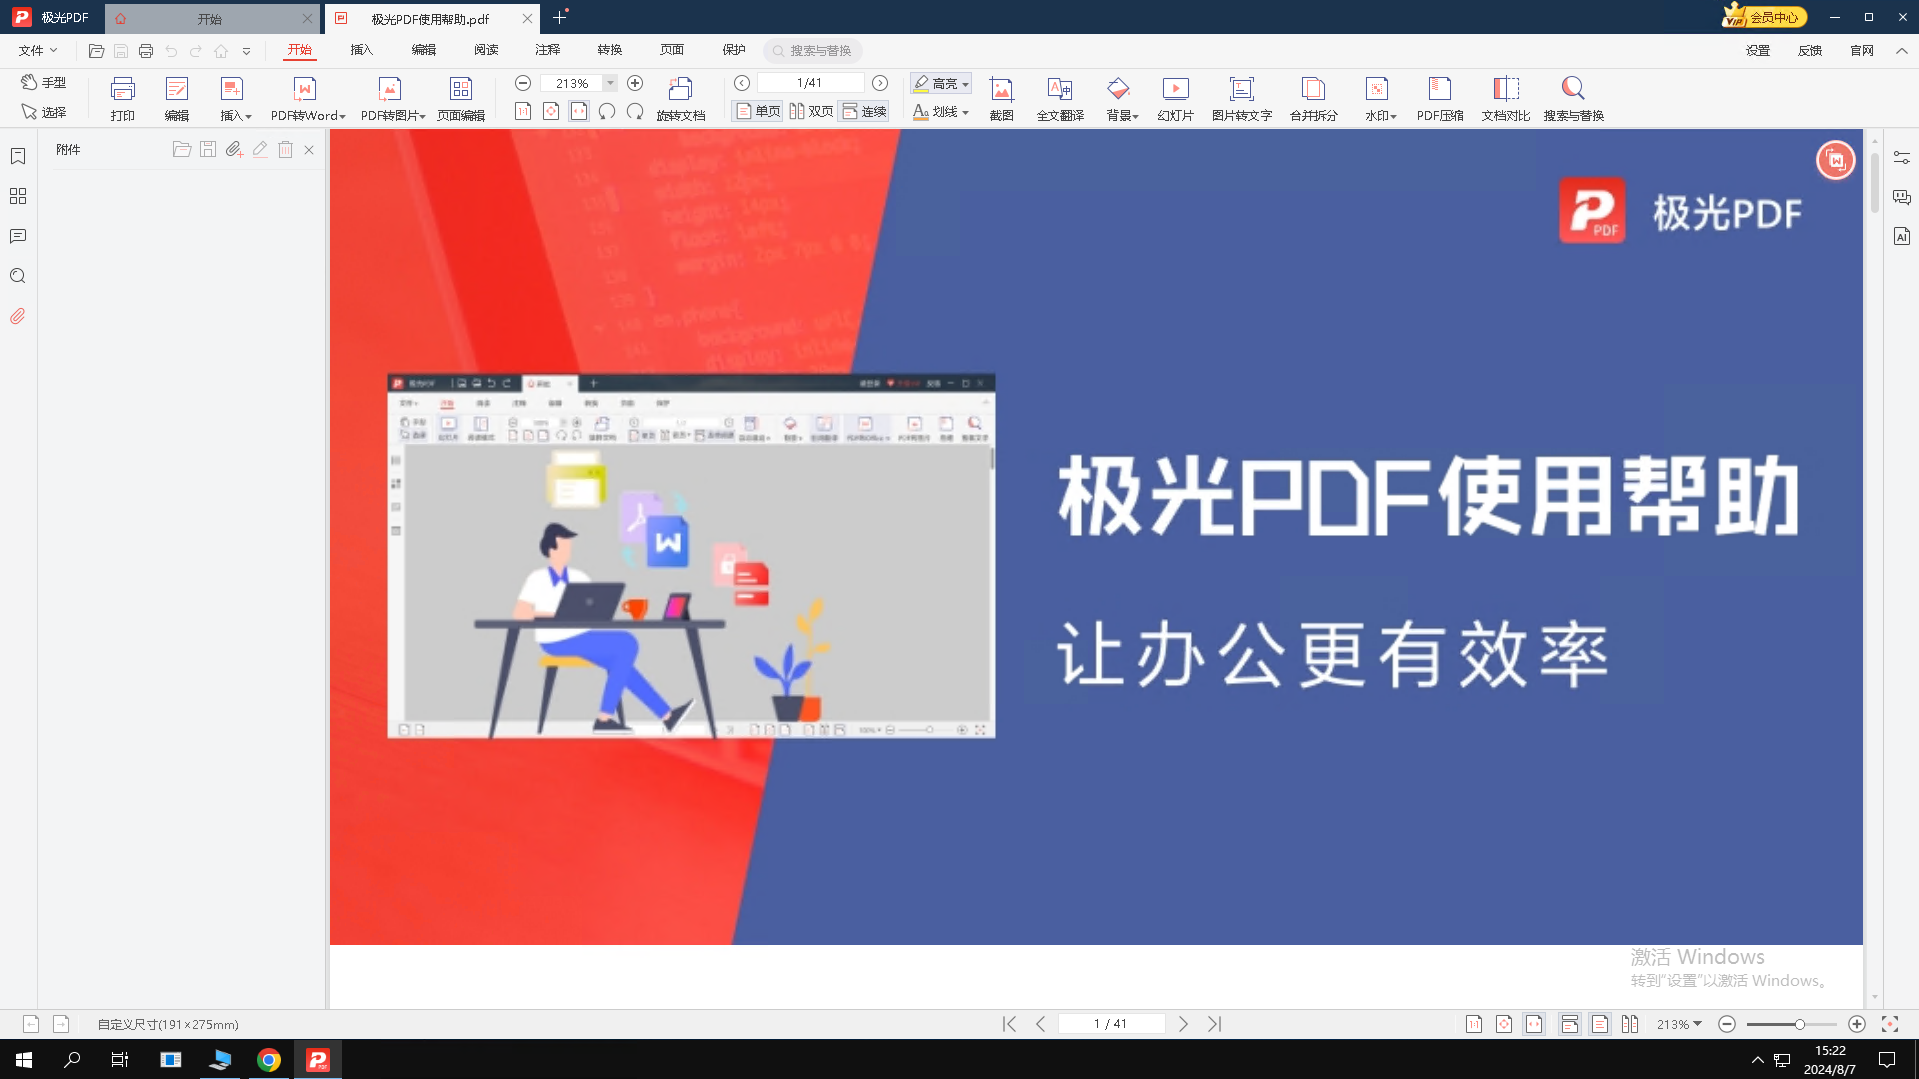Clickable: (223, 132, 250, 165)
Disabled: (272, 129, 302, 169), (246, 132, 277, 167), (297, 130, 326, 165), (196, 134, 221, 165), (167, 138, 192, 163)
Root: (38, 132, 327, 1007)
